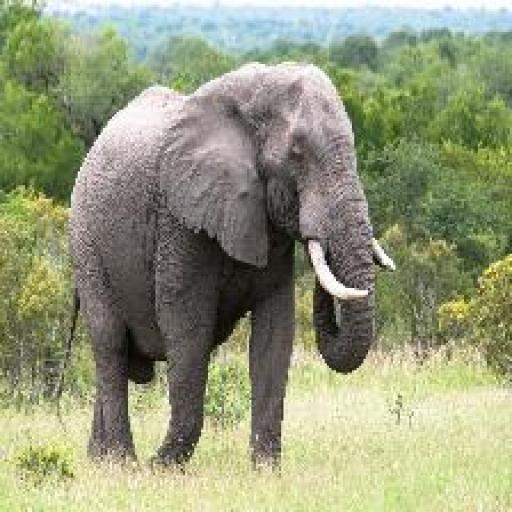Elephant: (64, 60, 395, 476)
